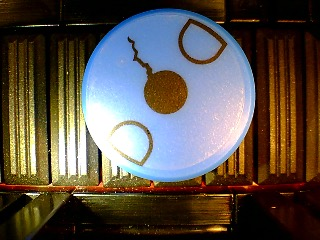CRACK: (80, 8, 256, 182)
